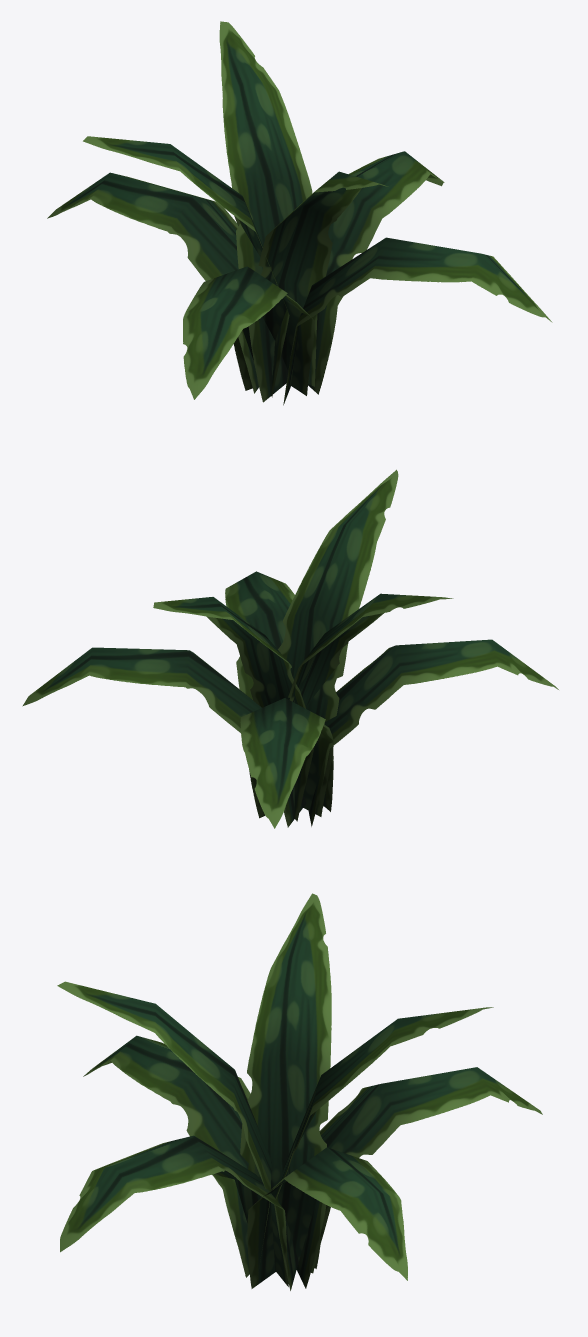
The model's file is PlantC.fbx.
3 views of the same model, one above another, from view 1: azimuth 30°, elevation 25°; view 2: azimuth 150°, elevation 25°; view 3: azimuth 270°, elevation 25° (orthographic). The views are drawn at different scales.
Visible parts, largest first — view 1: Mesh; view 2: Mesh; view 3: Mesh.
Part boxes in pixels (x1,y1,x2,y2): Mesh: (47, 21, 552, 405); Mesh: (22, 469, 558, 828); Mesh: (57, 893, 542, 1290).
Bounding box in the file's own units: 213 × 129 × 213.
